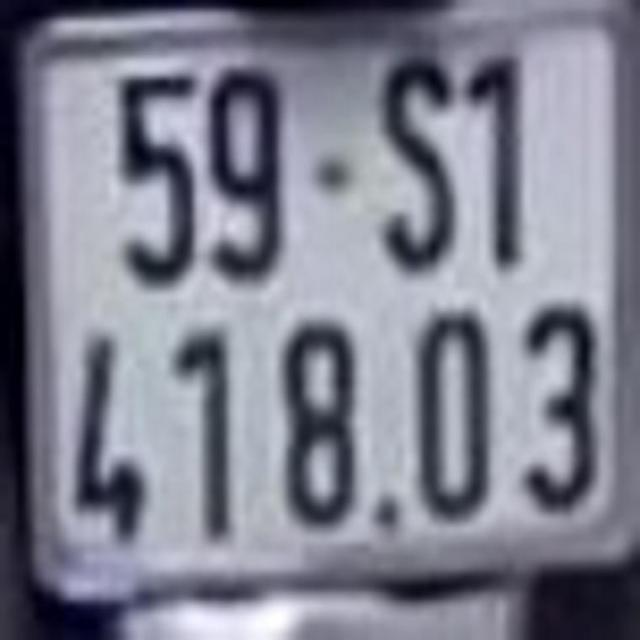0: (416, 314, 492, 519)
1: (466, 48, 524, 265), (178, 327, 234, 540)
3: (524, 299, 598, 511)
4: (74, 331, 154, 544)
5: (116, 70, 200, 292)
8: (278, 314, 352, 517)
9: (208, 68, 291, 276)
S: (382, 53, 454, 274)
